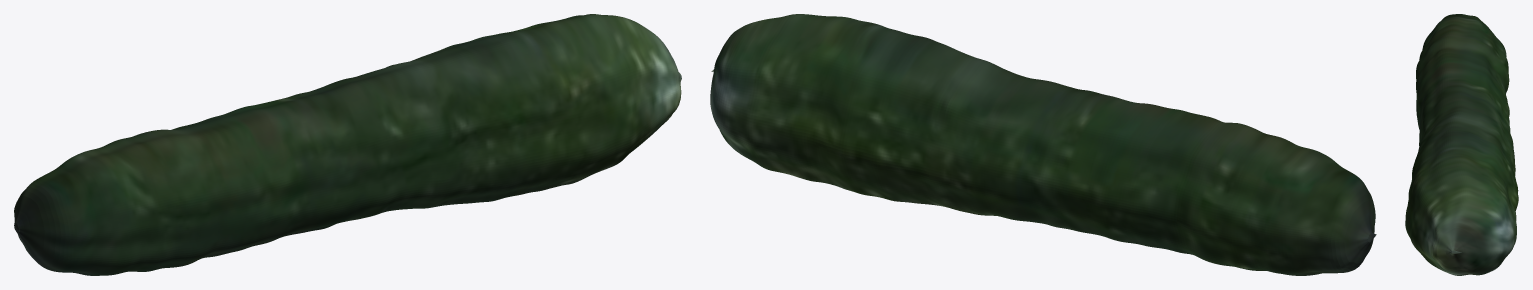
Rendered from cucumber.glb.
3 views of the same model, side by side, from view 1: azimuth 30°, elevation 25°; view 2: azimuth 150°, elevation 25°; view 3: azimuth 270°, elevation 25° (orthographic). The views are drawn at different scales.
Parts seen in each view (by area): view 1: skin; view 2: skin; view 3: skin.
Boxes of the visible parts, x1=… form: skin: x1=14, y1=14, x2=681, y2=275; skin: x1=710, y1=14, x2=1376, y2=275; skin: x1=1405, y1=14, x2=1518, y2=275.
Size of the model in its own units: 0.16 by 0.035 by 0.035.
Materials: 1 (1 with a texture image).
